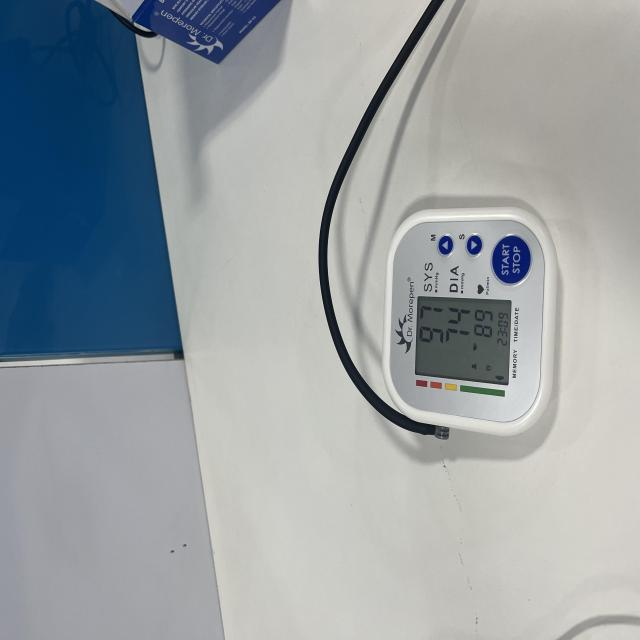bp: (360, 193, 574, 452)
